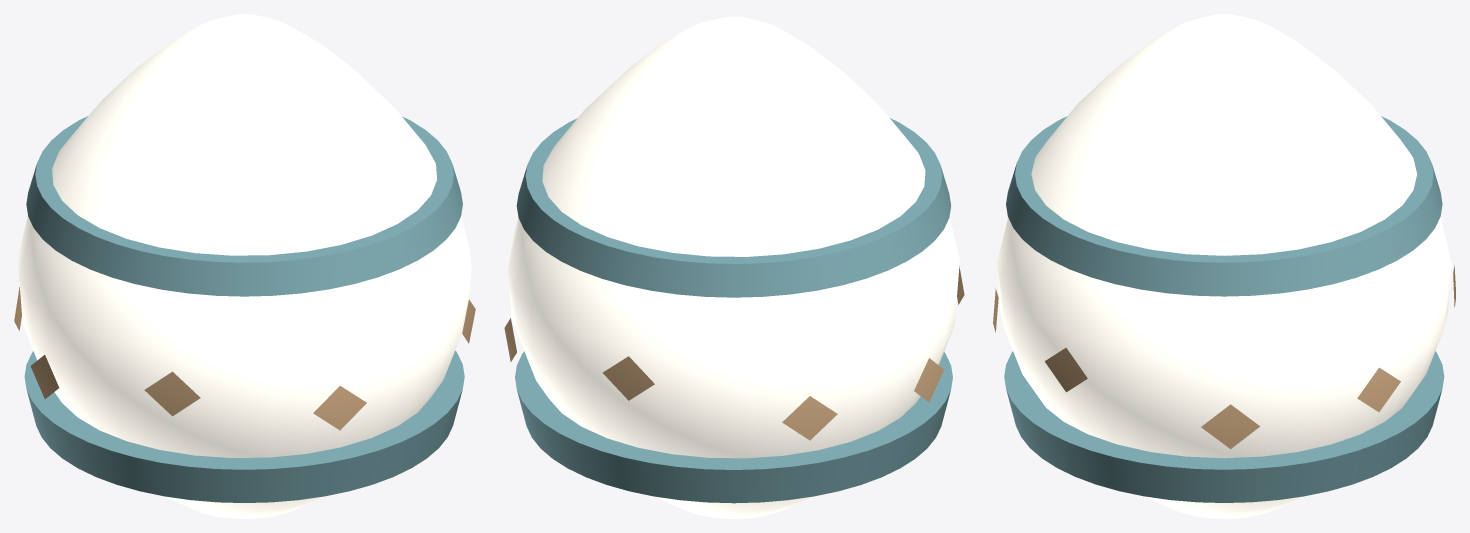
The model's file is egg-stage-3.glb.
3 views of the same model, side by side, from view 1: azimuth 30°, elevation 25°; view 2: azimuth 150°, elevation 25°; view 3: azimuth 270°, elevation 25° (orthographic).
Visible parts, largest first — view 1: egg_stage_3; view 2: egg_stage_3; view 3: egg_stage_3.
Boxes of the visible parts, box(x1,y1,x2,y2) form: egg_stage_3: box(14, 14, 475, 518); egg_stage_3: box(504, 16, 964, 518); egg_stage_3: box(993, 14, 1455, 518).
Bounding box in the file's own units: 1.11 × 1.3 × 1.12.
